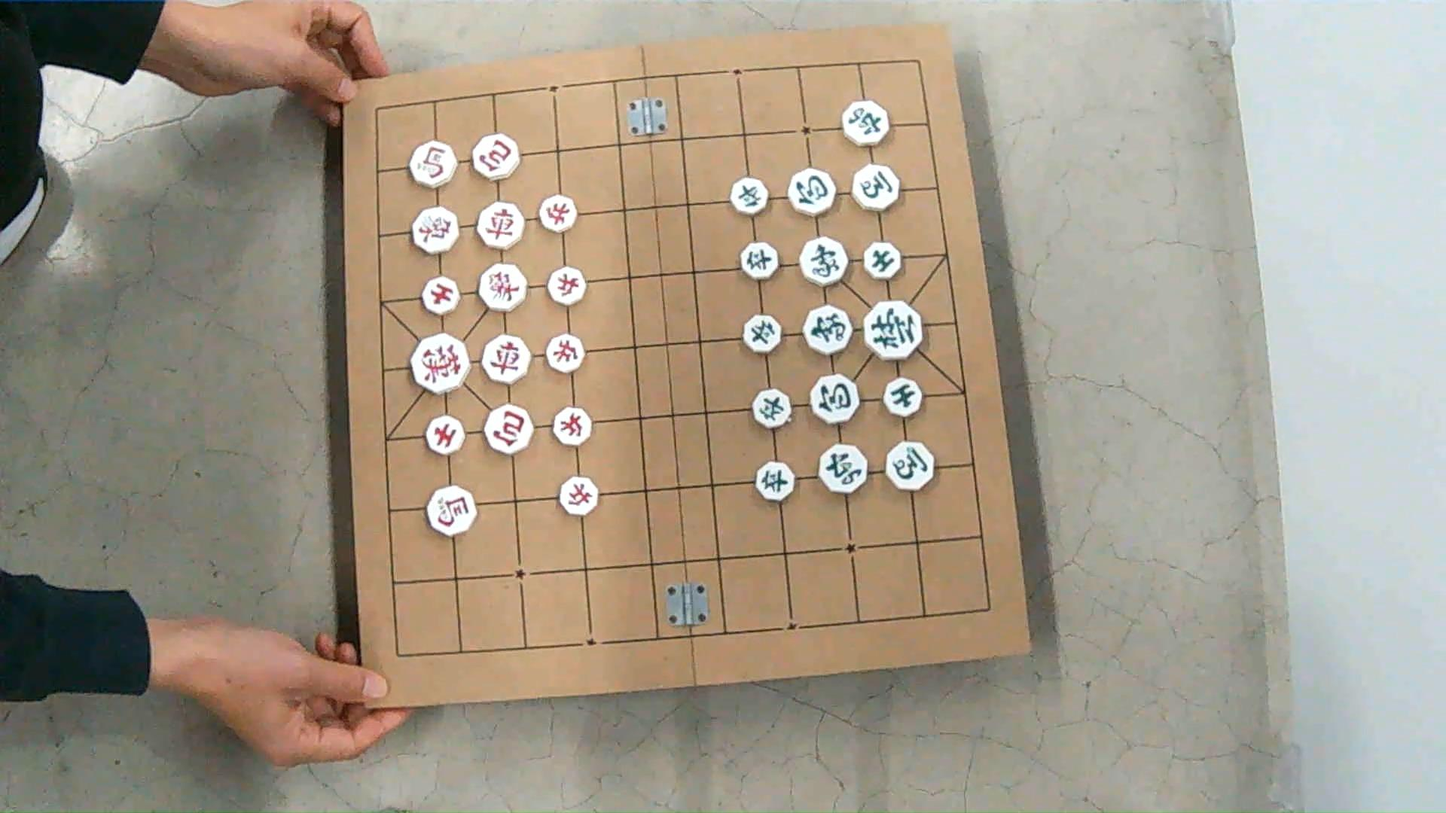cha_green: (819, 444, 867, 493), (843, 100, 889, 146)
cha_red: (482, 335, 530, 384), (477, 202, 523, 249)
jol_green: (753, 389, 792, 428), (755, 462, 793, 501), (744, 315, 782, 353), (740, 242, 777, 279), (731, 177, 767, 215)
jol_red: (554, 406, 591, 446), (548, 266, 585, 306), (546, 334, 584, 372), (560, 477, 598, 515), (538, 195, 576, 232)
ma_green: (886, 442, 934, 490), (853, 164, 899, 210)
ma_red: (428, 486, 477, 536), (410, 141, 456, 187)
po_green: (811, 374, 859, 423), (789, 168, 835, 215)
po_red: (484, 405, 532, 453), (472, 134, 519, 180)
sa_green: (883, 378, 920, 418), (864, 242, 899, 279)
sa_red: (426, 416, 464, 455), (422, 276, 460, 315)
sang_green: (805, 306, 853, 355), (801, 237, 847, 285)
sang_red: (479, 263, 526, 311), (412, 207, 458, 254)
wang_green: (863, 300, 922, 360)
wang_red: (411, 333, 469, 393)
